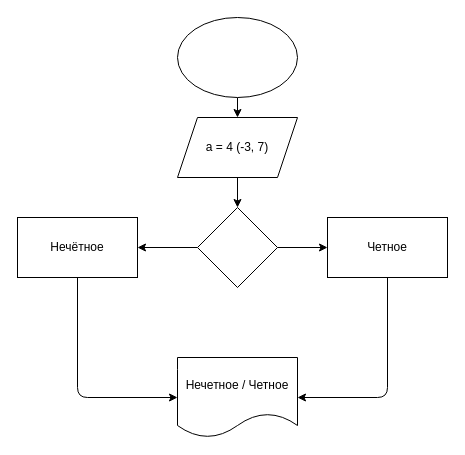
Some shapes in this 465 by 455 pixel diagram are drawn without their labels. The box of each missing label's shape, as (x1, y1, x2, y2) in pixels:
a % 2 == 0: (196, 206, 278, 288)
Start: (176, 16, 298, 98)
